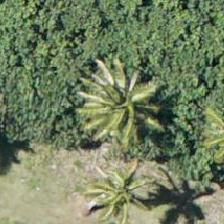coconut_tree: (80, 50, 170, 140), (77, 144, 167, 223)
